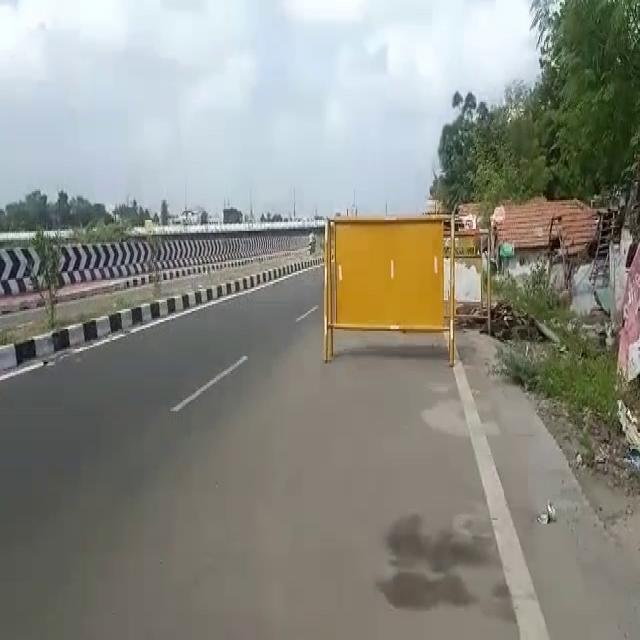fallen_object: (306, 192, 489, 385)
